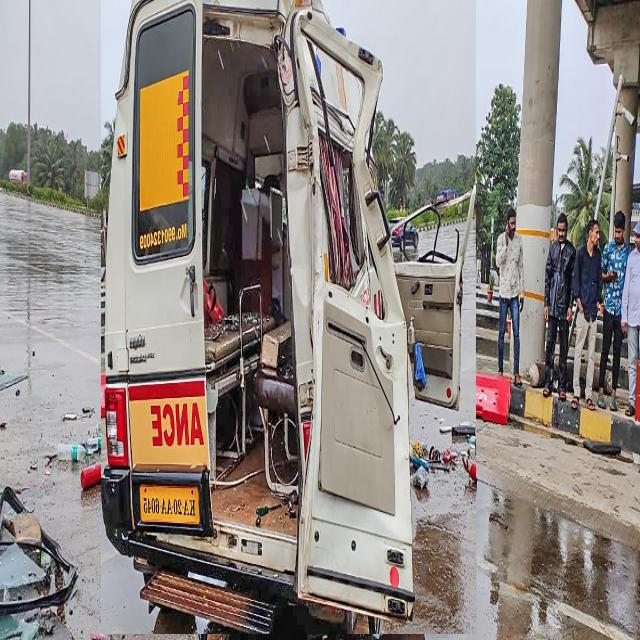accident: (101, 0, 476, 634)
